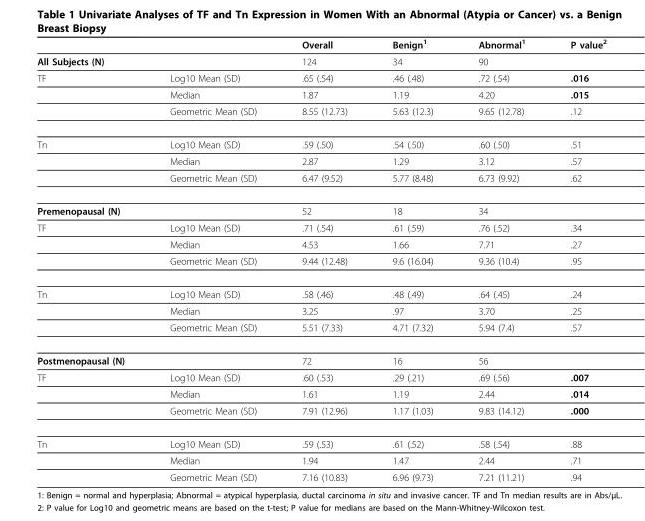table: (36, 37, 605, 482)
table column: (146, 37, 278, 482), (36, 37, 146, 482), (455, 37, 547, 482), (278, 37, 369, 482), (369, 37, 455, 482), (547, 37, 605, 482)
table column header: (36, 37, 605, 52)
table row: (36, 401, 605, 427), (36, 102, 605, 127), (36, 127, 605, 152), (36, 169, 605, 194), (36, 194, 605, 219), (36, 252, 605, 277), (36, 277, 605, 302), (36, 318, 605, 343), (36, 343, 605, 368), (36, 427, 605, 451), (36, 52, 605, 69), (36, 85, 605, 102), (36, 152, 605, 169), (36, 235, 605, 252), (36, 368, 605, 385), (36, 451, 605, 468), (36, 69, 605, 85), (36, 219, 605, 235), (36, 302, 605, 318), (36, 385, 605, 401), (36, 37, 605, 52), (36, 468, 605, 482)
table spanning cell: (36, 127, 146, 194), (36, 277, 146, 343), (36, 368, 146, 427), (36, 69, 146, 127), (36, 219, 146, 277), (36, 427, 146, 482)
